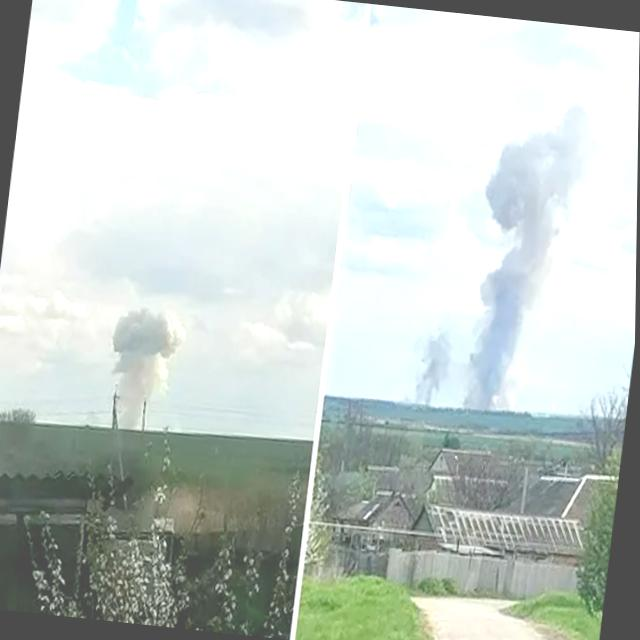no_helmet: (462, 96, 605, 417), (103, 306, 186, 432), (407, 320, 458, 406)
